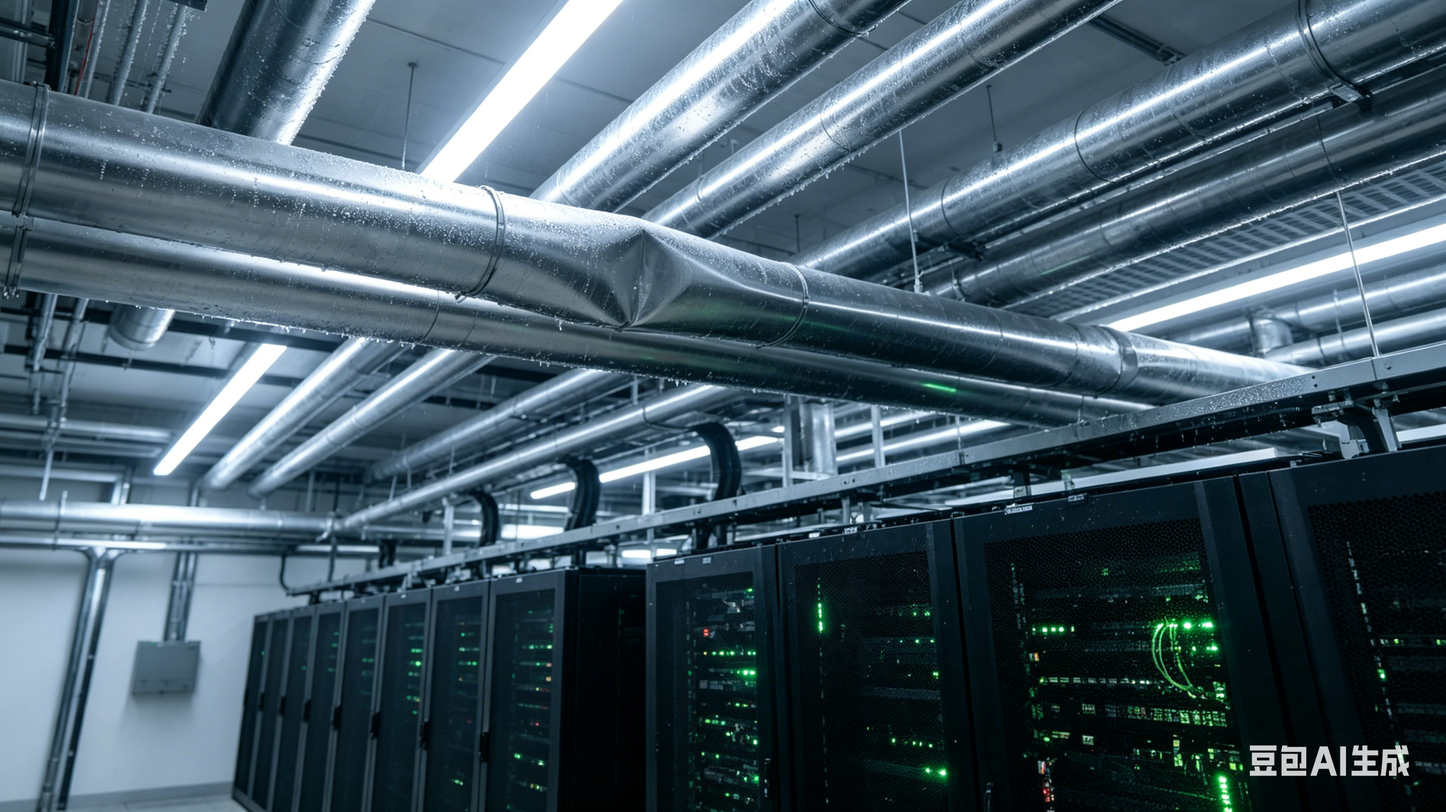Leakage: (577, 215, 712, 325)
